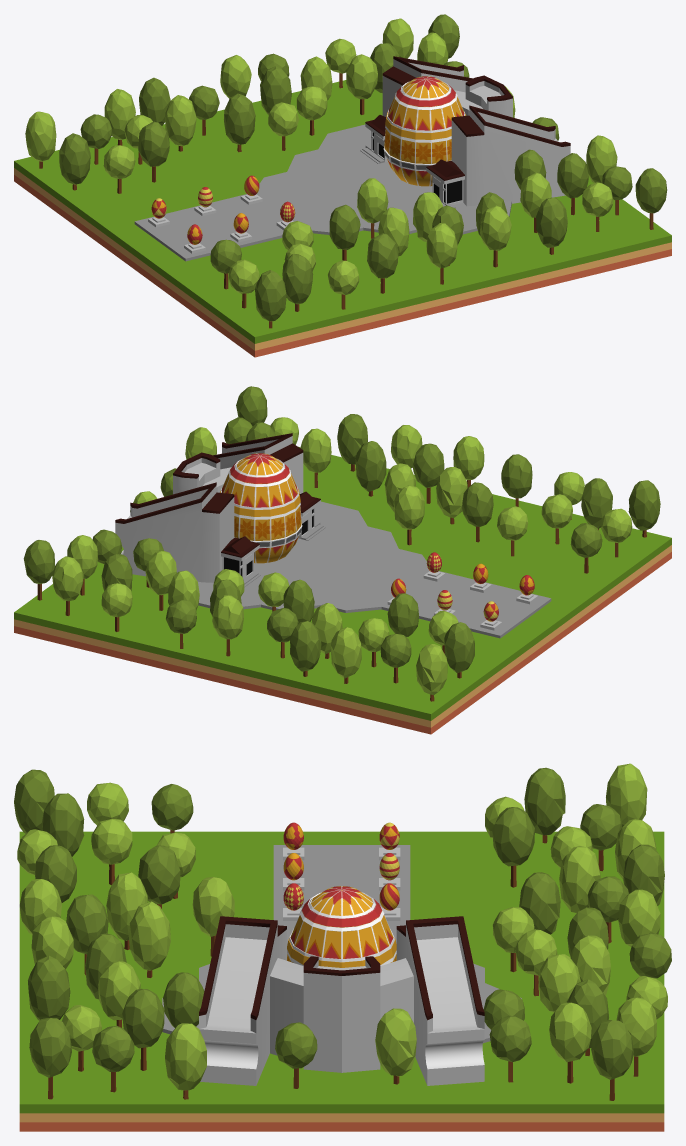
File: kolomuya.gltf
3 views of the same model, one above another, from view 1: azimuth 30°, elevation 25°; view 2: azimuth 150°, elevation 25°; view 3: azimuth 270°, elevation 25° (orthographic). The views are drawn at different scales.
Visible parts, largest first — view 1: Cube_1, Plane_1, Cube_1_4, Sphere_3, Cube_7, Cube_1_7, /Arnold_Scatter|instance_50, /Arnold_Scatter|instance_158, /Arnold_Scatter|instance_218, /Arnold_Scatter|instance_194, /Arnold_Scatter|instance_182, /Arnold_Scatter|instance_62 (+41 smaller); view 2: Cube_1, Plane_1, Cube_7, Sphere_3, Cube_1_4, /Arnold_Scatter|instance_182, /Arnold_Scatter|instance_218, /Arnold_Scatter|instance_134, /Arnold_Scatter|instance_98, /Arnold_Scatter|instance_26, /Arnold_Scatter|instance_50, /Arnold_Scatter|instance_170 (+42 smaller); view 3: Cube_1, Cube_7, Cube_1_4, Sphere_3, Plane_1, Tube_1, Tube, /Arnold_Scatter|instance_38, /Arnold_Scatter|instance_110, /Arnold_Scatter|instance_14, /Arnold_Scatter|instance_50, /Arnold_Scatter|instance_194 (+48 smaller).
Boxes of the visible parts, x1,y1,x2,y2 form: Cube_1: (14, 80, 671, 357); Plane_1: (134, 124, 511, 261); Cube_1_4: (451, 105, 570, 206); Sphere_3: (383, 76, 465, 186); Cube_7: (382, 56, 472, 116); Cube_1_7: (426, 159, 464, 208); /Arnold_Scatter|instance_50: (59, 133, 90, 184); /Arnold_Scatter|instance_158: (224, 93, 255, 144); /Arnold_Scatter|instance_218: (255, 270, 286, 321); /Arnold_Scatter|instance_194: (536, 197, 567, 247); /Arnold_Scatter|instance_182: (25, 111, 56, 161); /Arnold_Scatter|instance_62: (165, 95, 196, 146); Cube_1: (14, 447, 671, 734); Plane_1: (198, 501, 551, 638); Cube_7: (115, 482, 234, 582); Sphere_3: (220, 453, 302, 563); Cube_1_4: (213, 433, 303, 493); /Arnold_Scatter|instance_182: (416, 644, 447, 695); /Arnold_Scatter|instance_218: (628, 480, 660, 530); /Arnold_Scatter|instance_134: (290, 621, 321, 671); /Arnold_Scatter|instance_98: (331, 627, 361, 678); /Arnold_Scatter|instance_26: (355, 441, 386, 491); /Arnold_Scatter|instance_50: (444, 622, 474, 672); /Arnold_Scatter|instance_170: (436, 467, 467, 518); Cube_1: (19, 831, 664, 1131); Cube_7: (396, 916, 484, 1085); Cube_1_4: (199, 916, 286, 1085); Sphere_3: (287, 886, 396, 967); Plane_1: (162, 845, 521, 1043); Tube_1: (270, 956, 341, 1072); Tube: (342, 956, 413, 1072); /Arnold_Scatter|instance_38: (165, 1023, 206, 1090); /Arnold_Scatter|instance_110: (375, 1008, 416, 1076); /Arnold_Scatter|instance_14: (128, 901, 170, 970); /Arnold_Scatter|instance_50: (524, 767, 565, 835); /Arnold_Scatter|instance_194: (28, 955, 70, 1020).
Bounding box in the file's own units: 9.16 × 2.46 × 9.19.
Materials: 14 (1 with a texture image).
